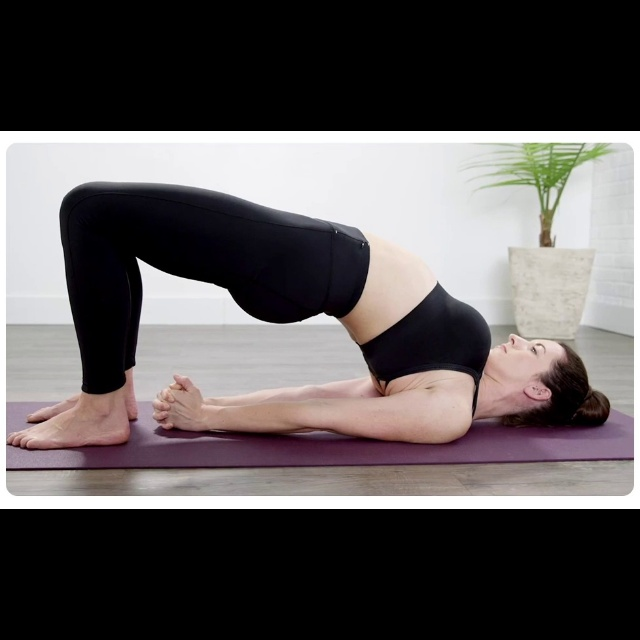Bridge_Pose: (4, 171, 616, 453)
